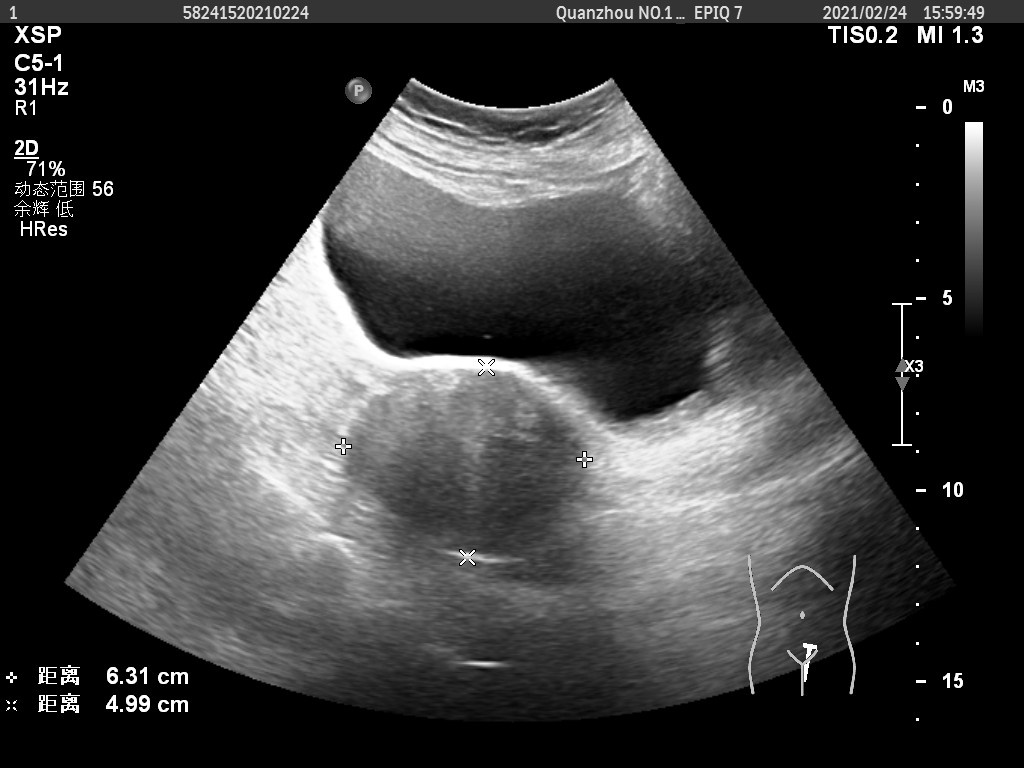肌瘤: (364, 383, 574, 552)
